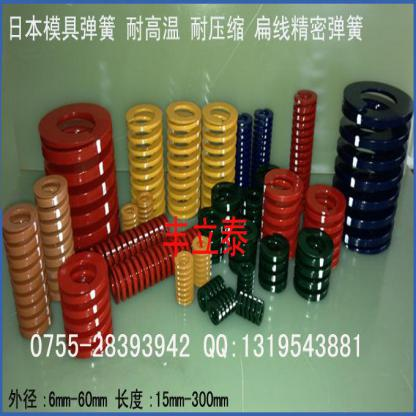FOD: (0, 202, 53, 339), (54, 250, 113, 362), (123, 101, 165, 217), (165, 103, 201, 222), (292, 224, 336, 302), (257, 230, 289, 296), (172, 247, 196, 307), (236, 290, 266, 325), (120, 202, 138, 231)
